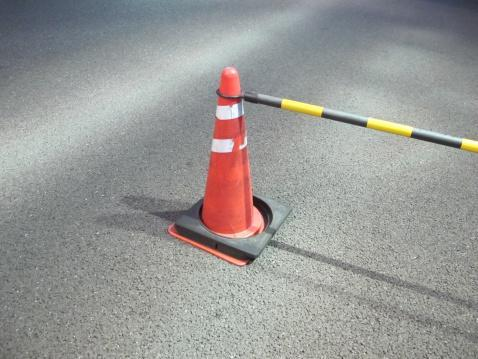Cone: (168, 65, 293, 269)
